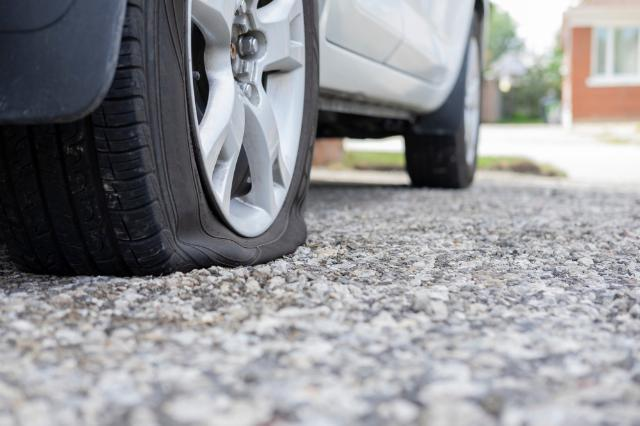tire flat: (0, 0, 321, 278)
